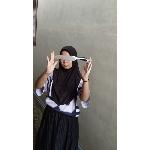Pisau: (50, 50, 94, 66)
